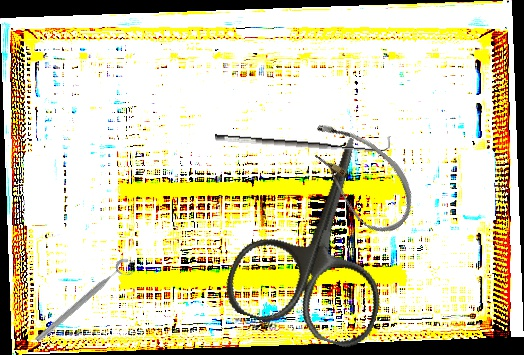Cannula: (288, 110, 430, 243)
Fixation Ring: (32, 255, 138, 351)
Hook Surgical: (214, 120, 391, 158)
Iris Scissors: (218, 115, 427, 354)
